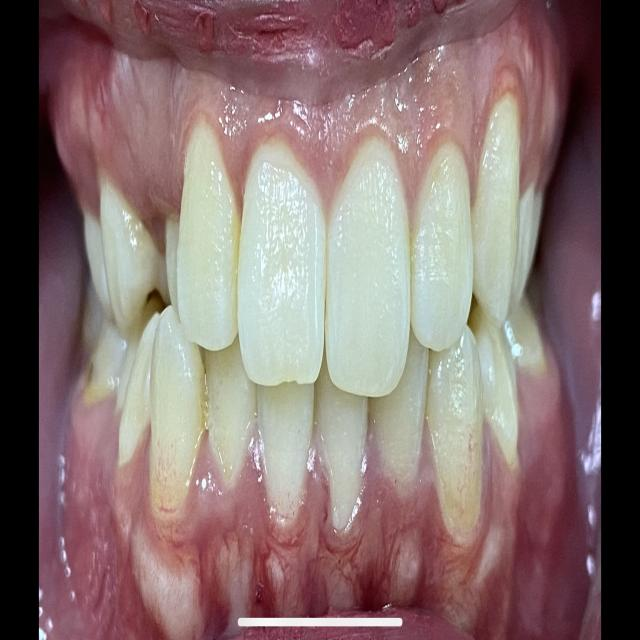tooth: (328, 158, 414, 396), (246, 163, 326, 388), (172, 138, 240, 348), (416, 160, 482, 349), (428, 350, 491, 537), (150, 344, 218, 504), (478, 98, 522, 308), (260, 397, 314, 543), (326, 395, 372, 543), (102, 187, 152, 310), (379, 388, 434, 483), (209, 366, 252, 474)
